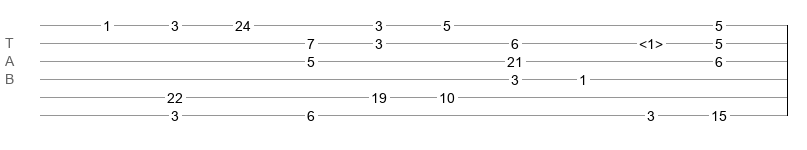1: (103, 18, 111, 28), (579, 72, 587, 82)
10: (439, 90, 455, 100)
15: (711, 108, 727, 118)
19: (371, 90, 387, 100)
21: (507, 54, 523, 64)
22: (167, 90, 183, 100)
24: (235, 18, 251, 28)
3: (171, 108, 179, 118), (171, 18, 179, 28), (375, 18, 383, 28), (375, 36, 383, 46), (511, 72, 519, 82), (647, 108, 655, 118)
5: (307, 54, 315, 64), (443, 18, 451, 28), (715, 36, 723, 46), (715, 18, 723, 28)
6: (307, 108, 315, 118), (511, 36, 519, 46), (715, 54, 723, 64)
7: (307, 36, 315, 46)
harmonic: (639, 36, 663, 46)
